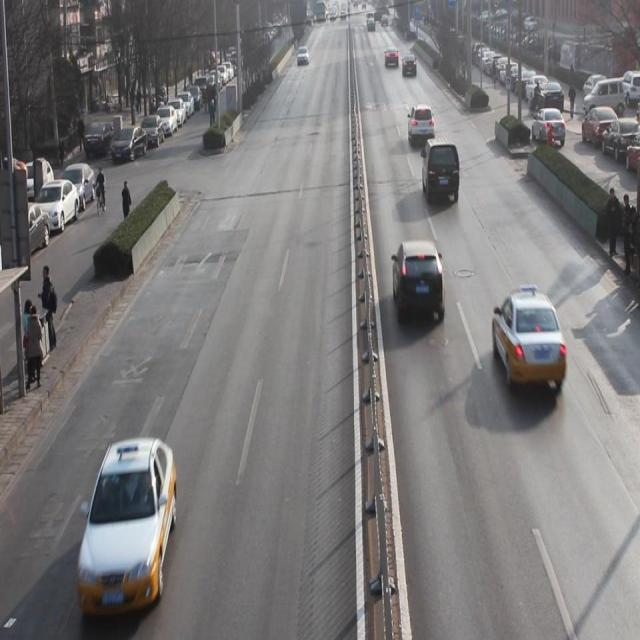car: (81, 434, 176, 614), (492, 293, 568, 394), (392, 236, 447, 329), (408, 105, 438, 147), (296, 44, 311, 70), (386, 48, 402, 72), (401, 58, 418, 78)
truck: (422, 141, 462, 206)
